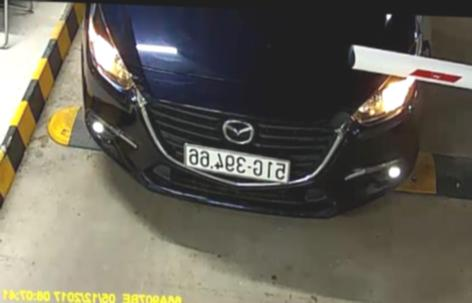License_Plate: (179, 143, 298, 183)
